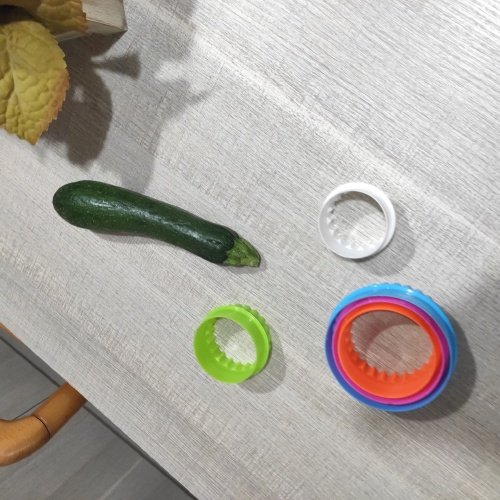zucchine: (50, 177, 281, 289)
